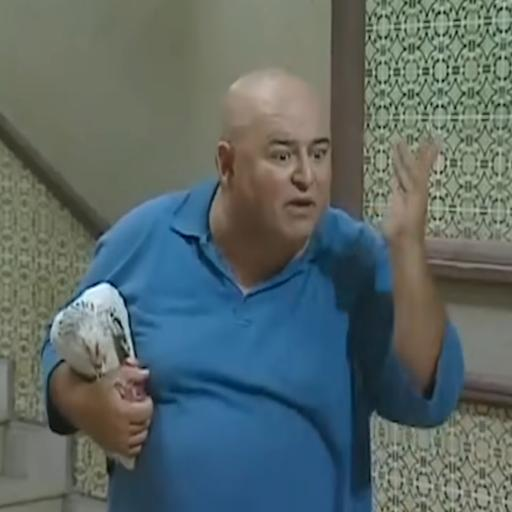sboui: (214, 71, 331, 248)
